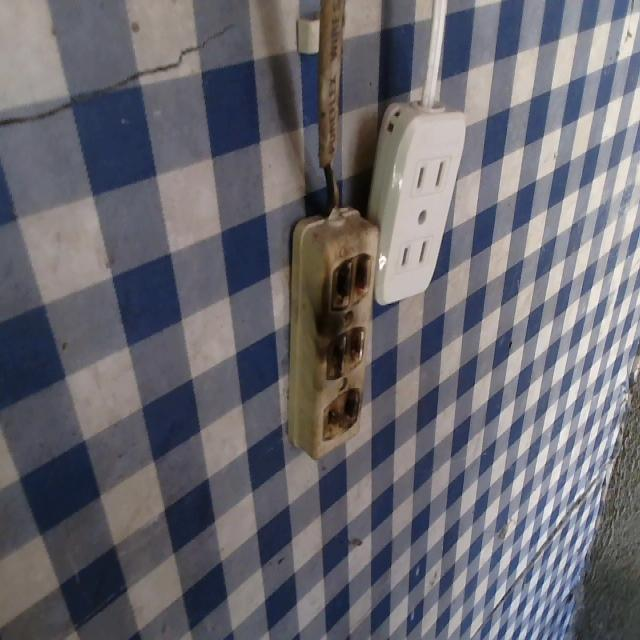-: (314, 385, 363, 444), (331, 250, 376, 314), (321, 325, 366, 380)
